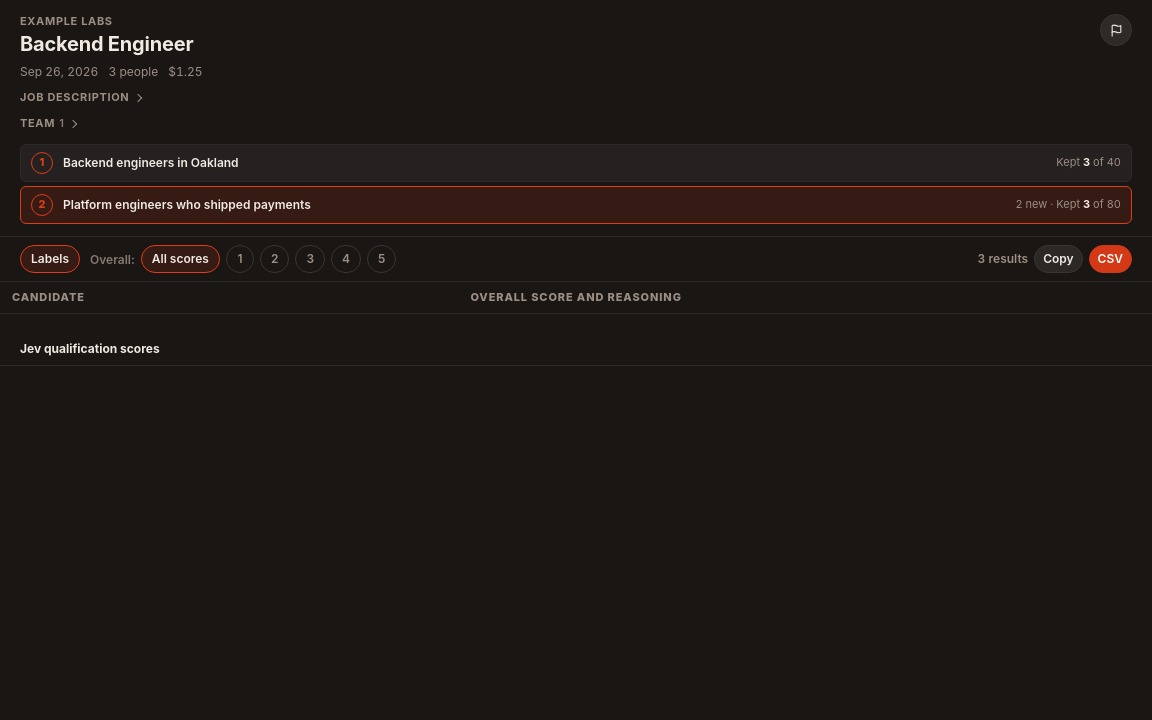
RunView › lists who a person came through, with their counts, in the drawer
Click the button "Kept". click: (187, 205)
box: [20, 186, 1132, 224]
(page scrolled)
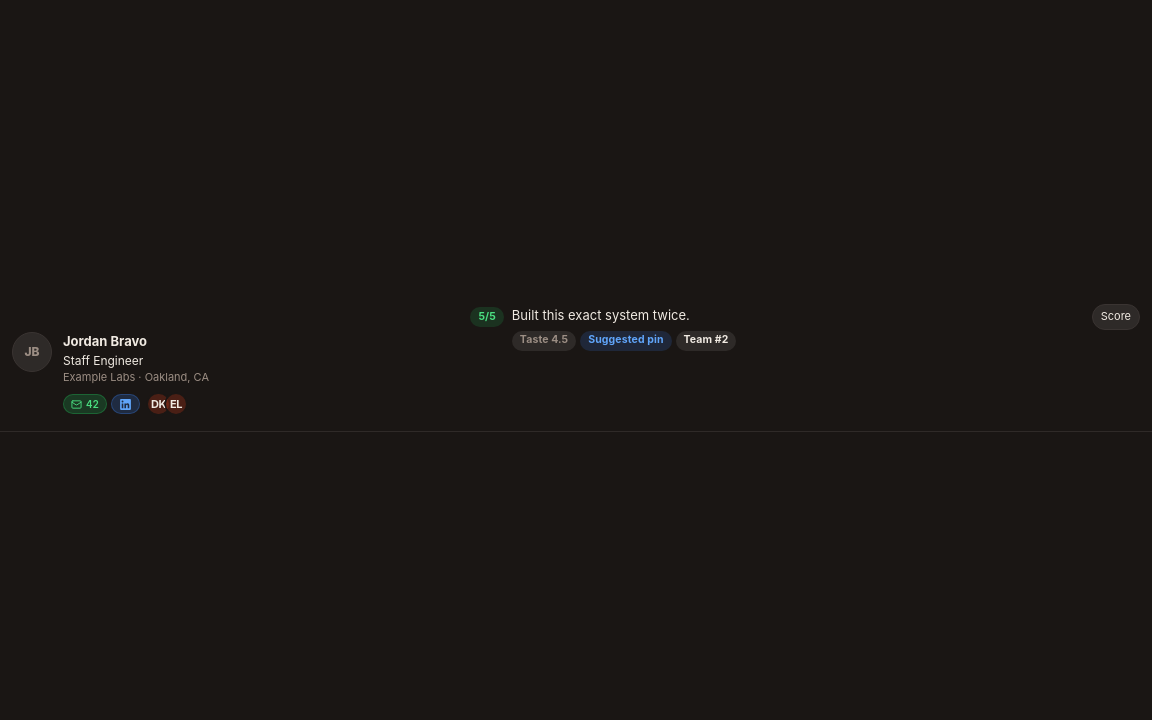
Click the row. click: (576, 361)
box: [0, 290, 1151, 431]
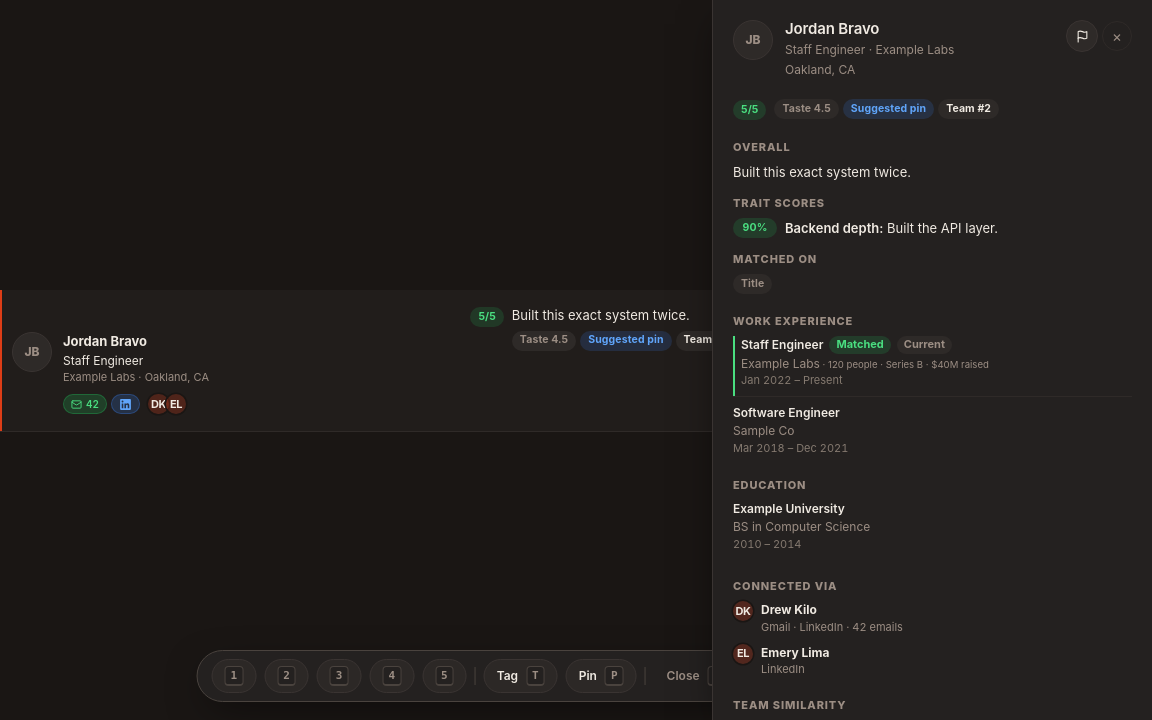
Now the text "Drew Kilo" is shown, box [761, 602, 817, 617]
Now the text "Gmail · LinkedIn · 42 emails" is shown, box [761, 620, 903, 634]
Now the text "LinkedIn" is shown, box [761, 662, 805, 676]
